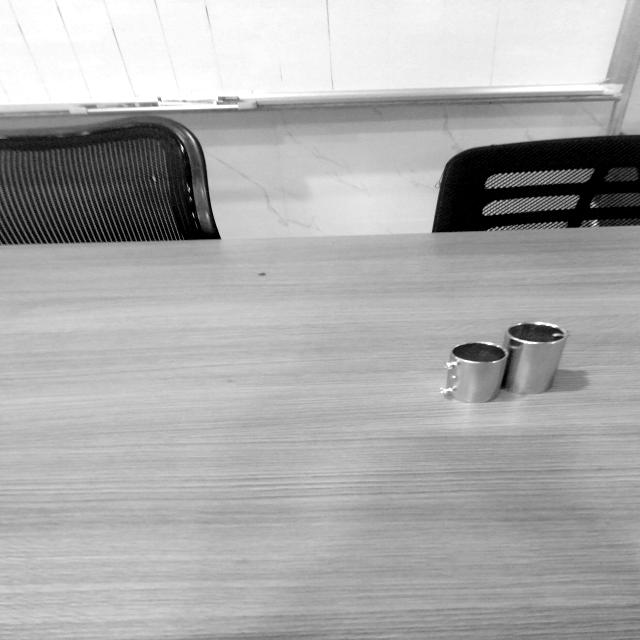Co_Lon: (439, 334, 510, 409)
Co_Nho: (499, 317, 569, 399)
